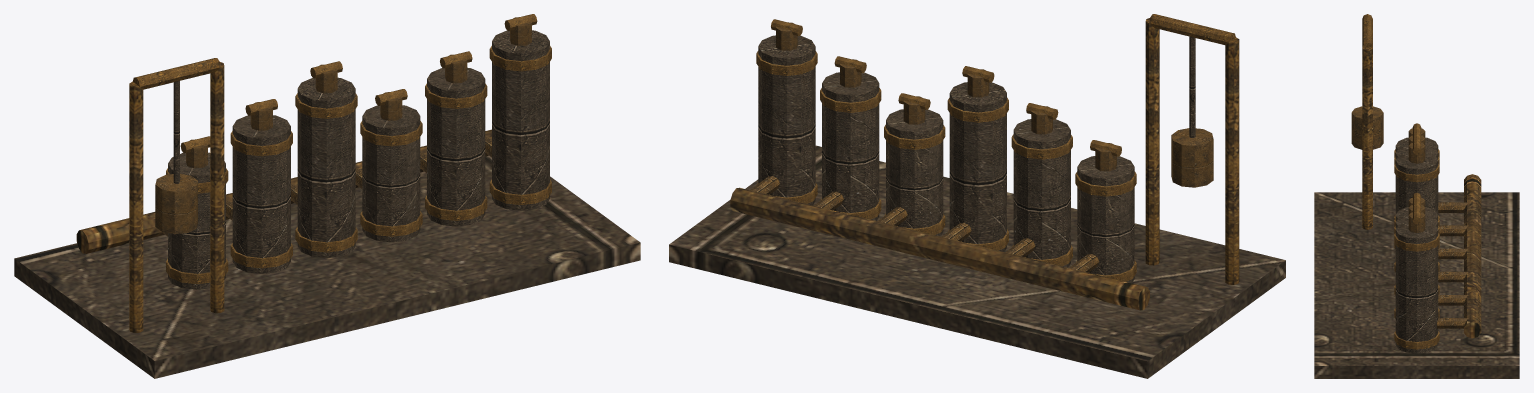
File: shore-preserve-rack.glb
3 views of the same model, side by side, from view 1: azimuth 30°, elevation 25°; view 2: azimuth 150°, elevation 25°; view 3: azimuth 270°, elevation 25° (orthographic). The views are drawn at different scales.
Parts seen in each view (by area): view 1: shore-preserve-rack; view 2: shore-preserve-rack; view 3: shore-preserve-rack.
Boxes of the visible parts, bbox=[...] form: shore-preserve-rack: bbox=[14, 14, 640, 378]; shore-preserve-rack: bbox=[669, 14, 1285, 378]; shore-preserve-rack: bbox=[1314, 14, 1519, 378].
Size of the model in its own units: 5.4 by 2.87 by 2.7.
1 material, 1 textured.
